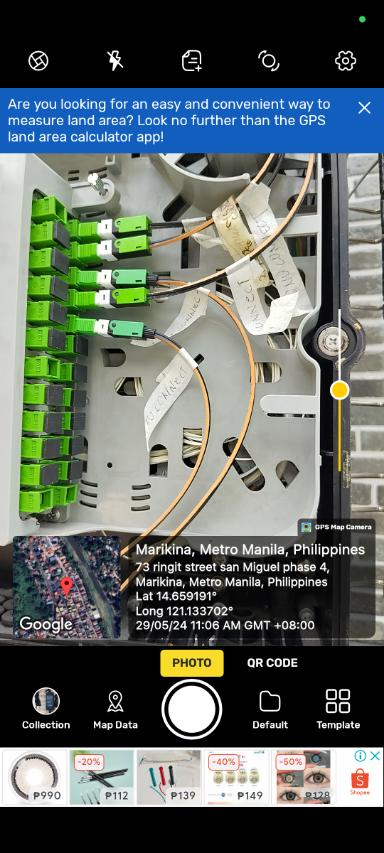no dust cap: (45, 356, 63, 383), (52, 197, 67, 224), (62, 484, 78, 506), (38, 489, 54, 511)
occupied: (75, 317, 162, 350), (76, 268, 169, 295), (77, 234, 157, 264), (72, 286, 162, 312), (73, 213, 156, 241)
vacant: (49, 275, 71, 306), (51, 246, 71, 278), (51, 221, 72, 250), (46, 327, 68, 354), (40, 461, 62, 488), (41, 438, 64, 461), (43, 412, 65, 436), (50, 303, 70, 329), (72, 363, 91, 386), (68, 434, 87, 457), (70, 389, 89, 411), (74, 335, 91, 359), (70, 413, 90, 433), (66, 459, 84, 481), (47, 387, 65, 407)
